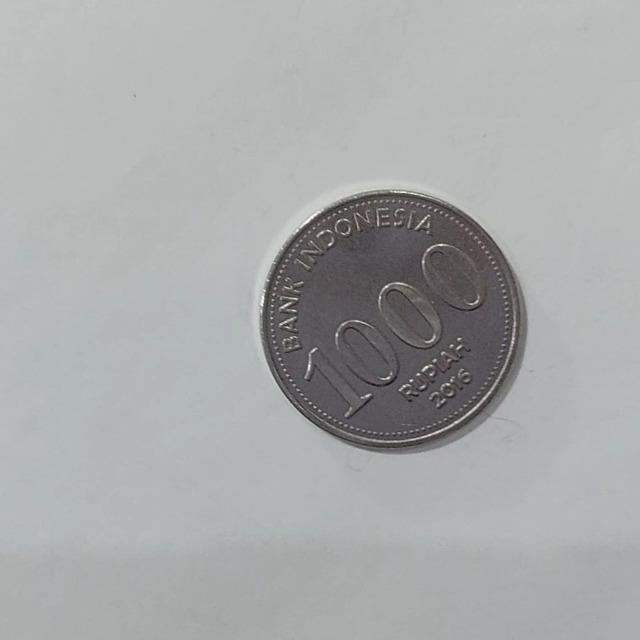Rp100: (257, 185, 526, 453)
